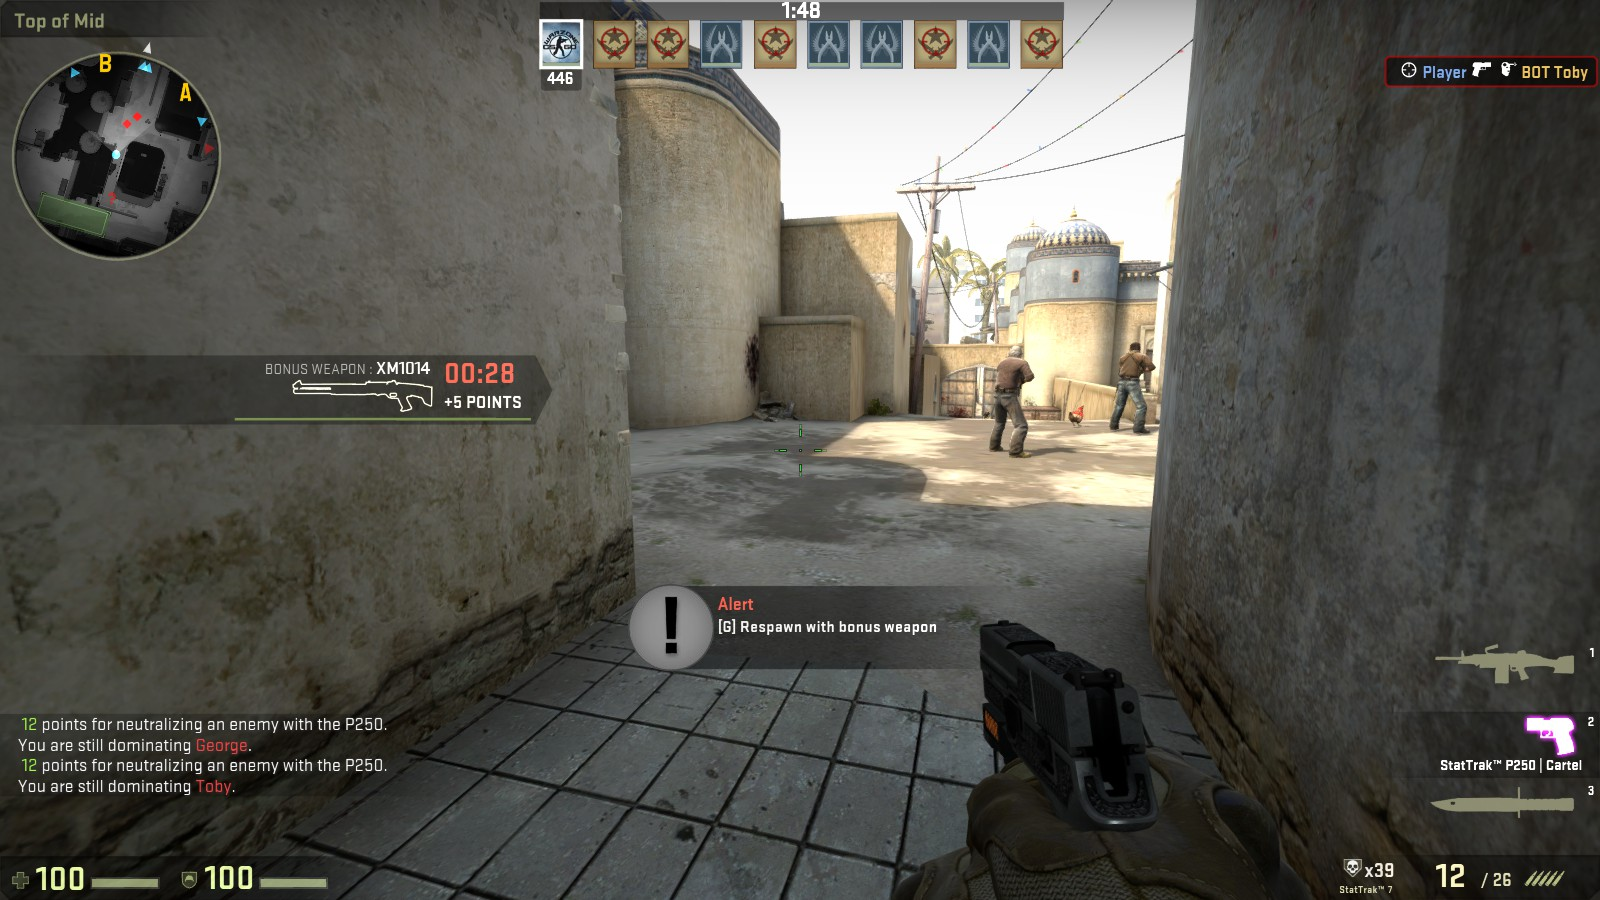t: (990, 344, 1036, 459), (1114, 338, 1147, 432)
th: (1005, 345, 1026, 362), (1127, 340, 1142, 359)
